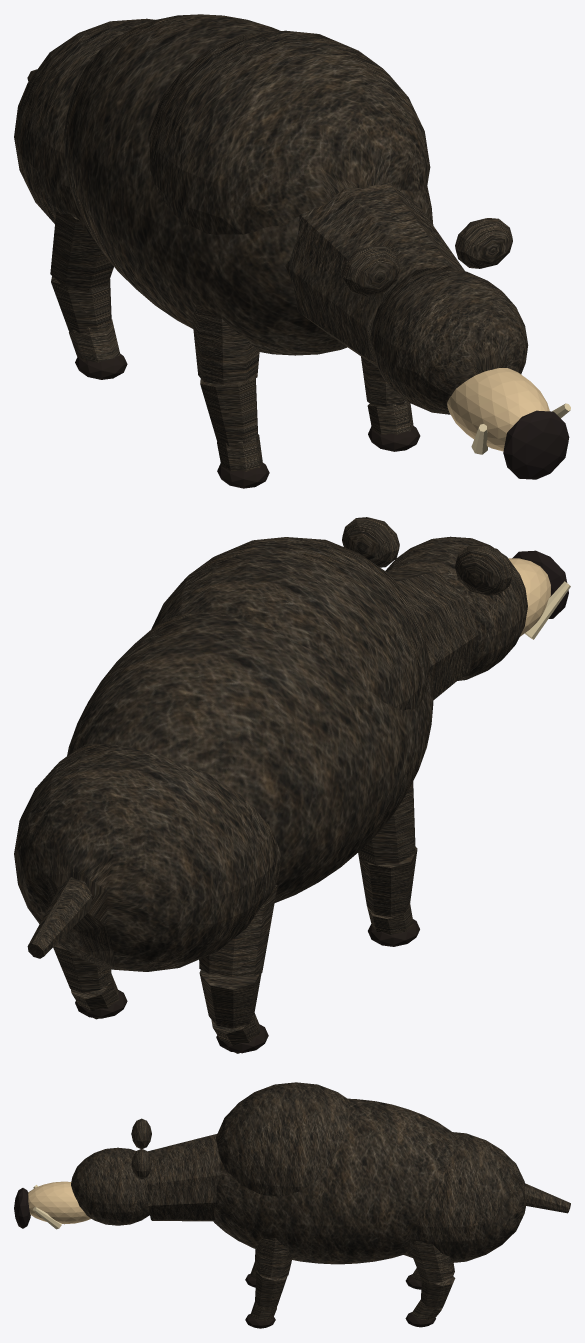
Rendered from boar.glb.
The picture shows the model from 3 angles, top to bottom: view 1: azimuth 30°, elevation 25°; view 2: azimuth 150°, elevation 25°; view 3: azimuth 270°, elevation 25°; orthographic projection. The views are drawn at different scales.
Visible parts, largest first — view 1: geometry_0; view 2: geometry_0; view 3: geometry_0.
Part boxes in pixels (x1,y1,x2,y2): geometry_0: [14, 14, 570, 488]; geometry_0: [14, 517, 570, 1053]; geometry_0: [14, 1082, 570, 1328].
Bounding box in the file's own units: 0.56 × 0.8048 × 1.88.
Materials: 1 (1 with a texture image).
